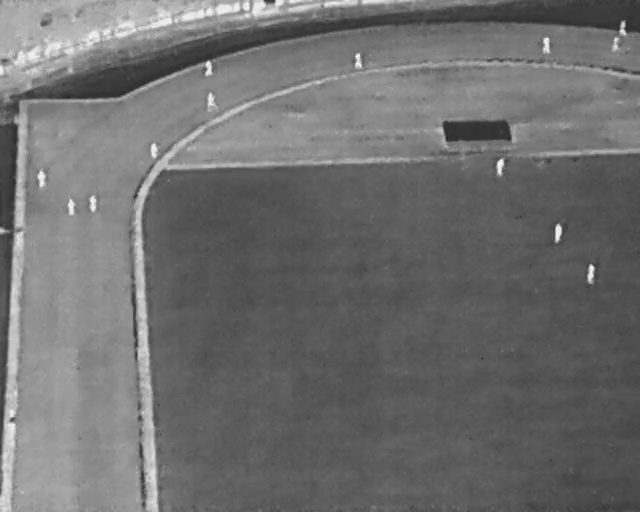Person: (206, 89, 219, 113), (8, 409, 17, 436), (553, 222, 563, 243), (586, 263, 596, 284), (36, 169, 46, 188), (150, 140, 159, 159), (354, 51, 363, 69), (496, 157, 505, 175), (68, 197, 76, 217), (89, 194, 97, 213), (205, 58, 213, 77), (543, 36, 551, 55), (612, 35, 620, 52), (619, 19, 627, 36)
